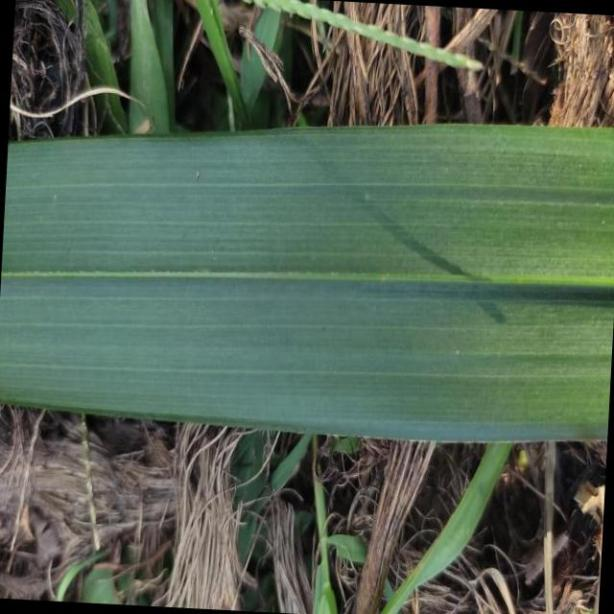Healthy: (0, 123, 614, 443)
